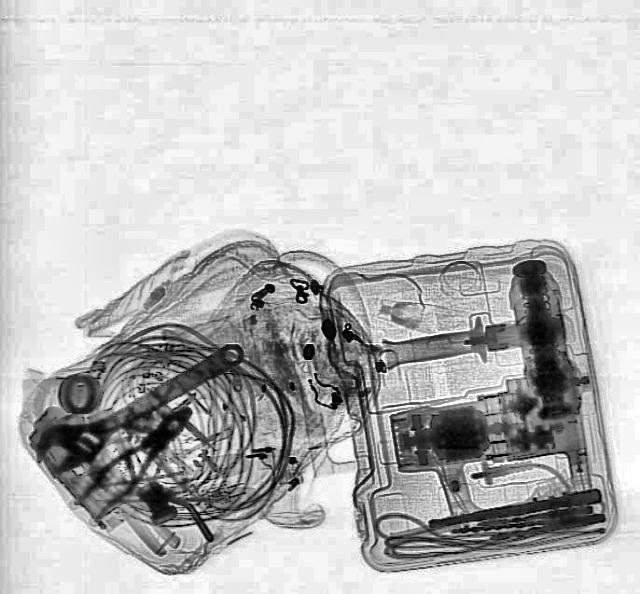Pliers: (64, 396, 210, 524)
Wrench: (23, 327, 257, 482)
